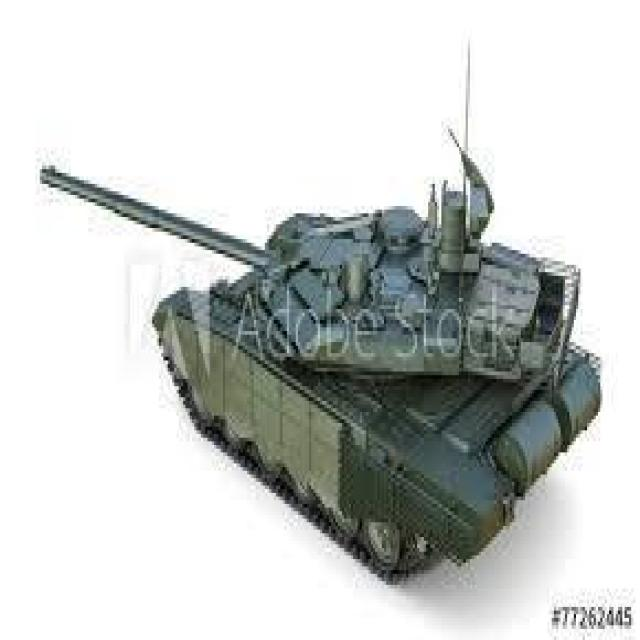Tanks: (136, 160, 608, 572)
